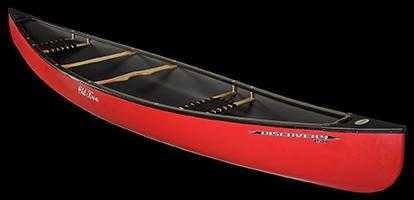kayak: (4, 18, 413, 195)
